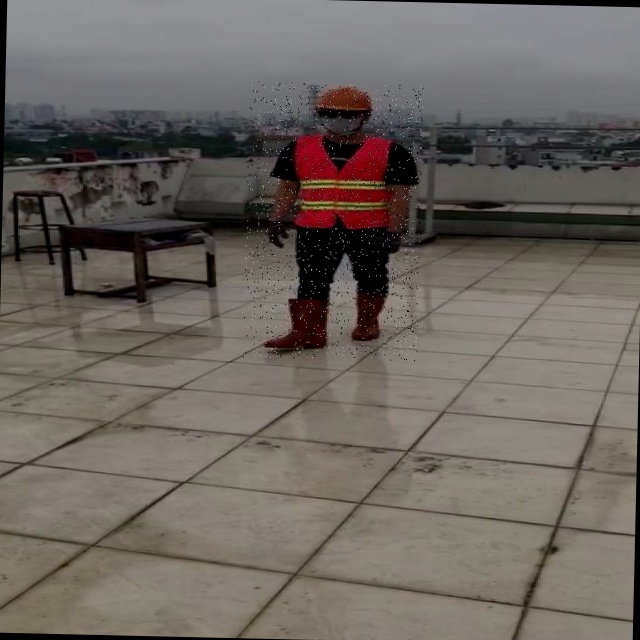boots: (314, 301, 382, 351), (249, 290, 288, 338)
gloves: (339, 207, 402, 260), (217, 212, 280, 257)
helmet: (268, 84, 336, 113)
vest: (252, 136, 348, 231)
